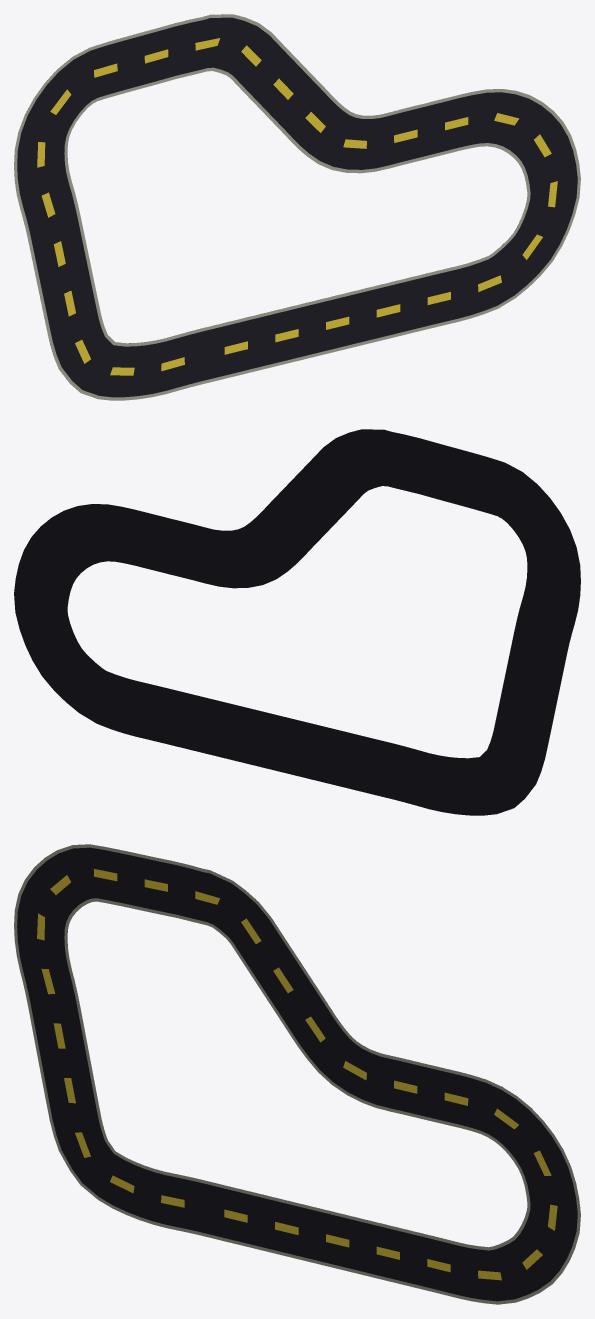
Rendered from track.obj.
The picture shows the model from 3 angles, top to bottom: view 1: azimuth 30°, elevation 25°; view 2: azimuth 150°, elevation 25°; view 3: azimuth 330°, elevation 25°; orthographic projection.
Bounding box in the file's own units: 7.26 × 4.51 × 0.002.
